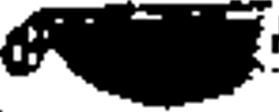Basket: (2, 1, 278, 109)
